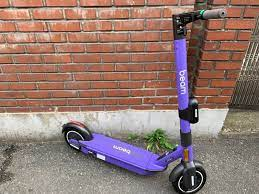kick_board: (62, 10, 225, 191)
kick_handler: (173, 8, 225, 24)
kick_neck: (175, 41, 198, 148)
kick_wheel: (171, 160, 206, 194), (63, 122, 86, 151)
